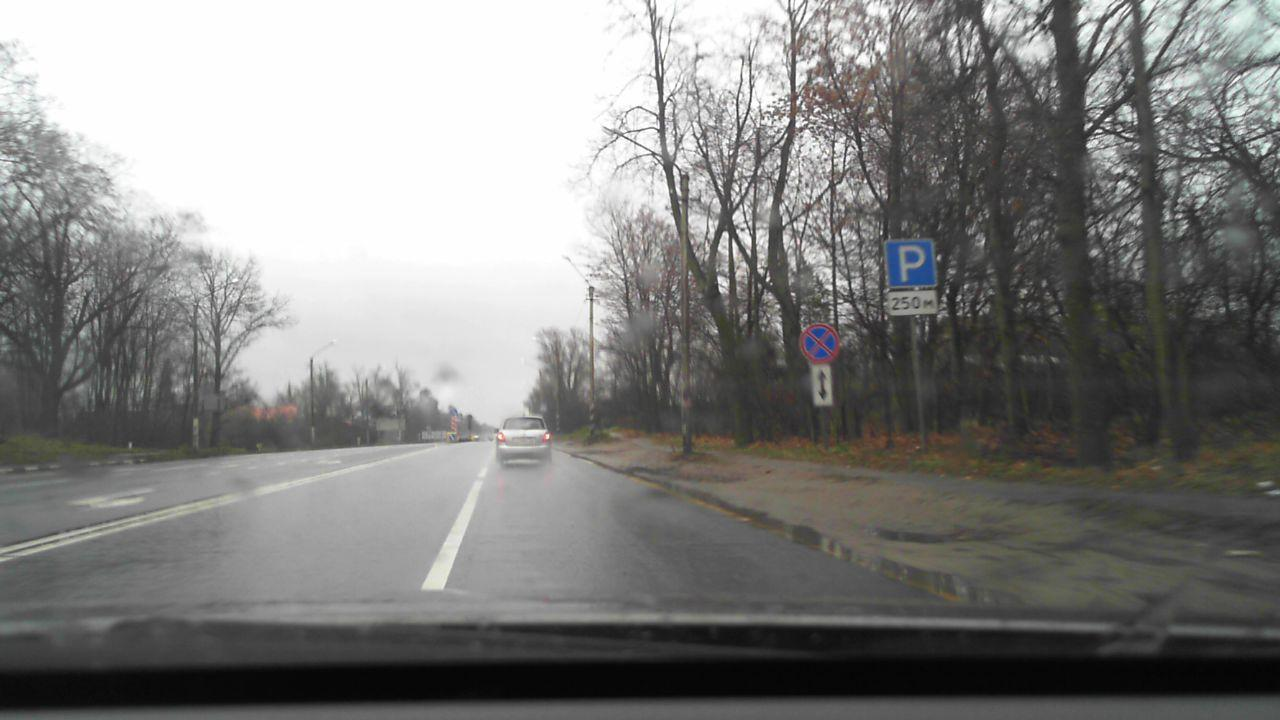3_27: (797, 323, 841, 362)
6_4: (883, 238, 937, 286)
8_1_1: (888, 291, 937, 315)
8_2_4: (810, 365, 835, 408)
